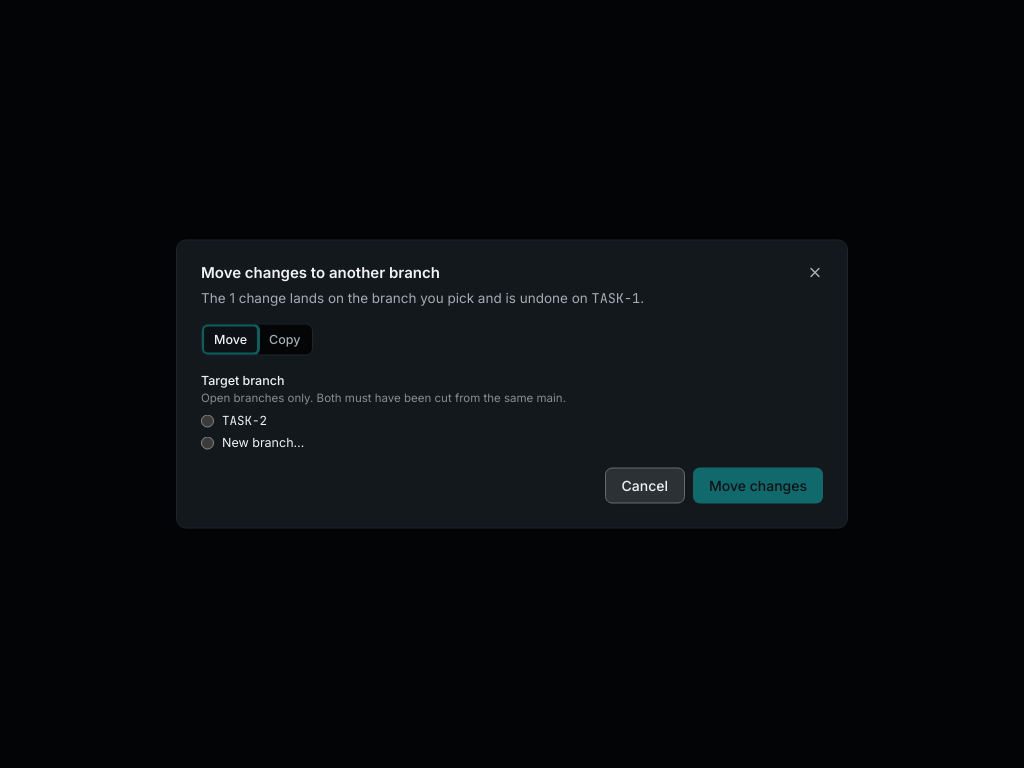
Test: TransferChangesDialog › keeps confirm off while a row is refused
What coordinates should you click on to do the following:
click the radio button labelled "TASK-2"
I would click on:
 (208, 420)
Its box is [201,414,214,427].
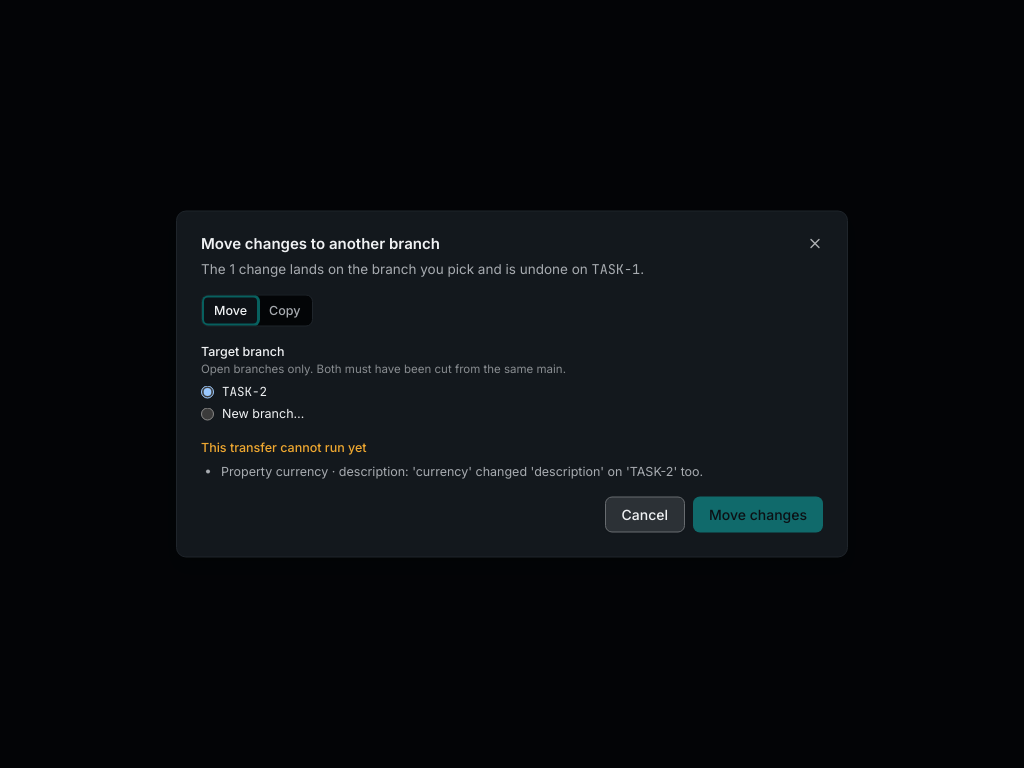
Expected: the button "Move changes" is disabled, [693,496,823,532]
Expected: the list item "Property currency · description: 'currency' changed" is shown, [221,464,703,478]
